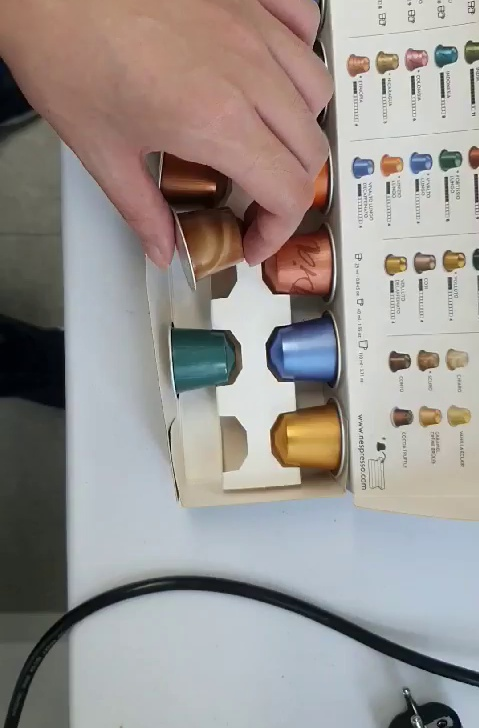capsule_12: (166, 201, 254, 293)
